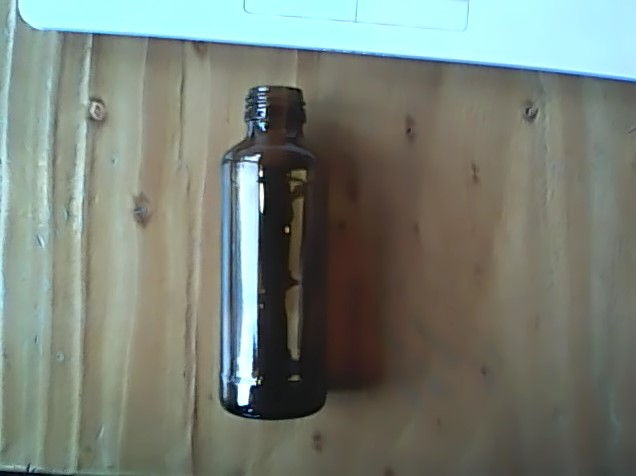Glass: (215, 82, 331, 426)
